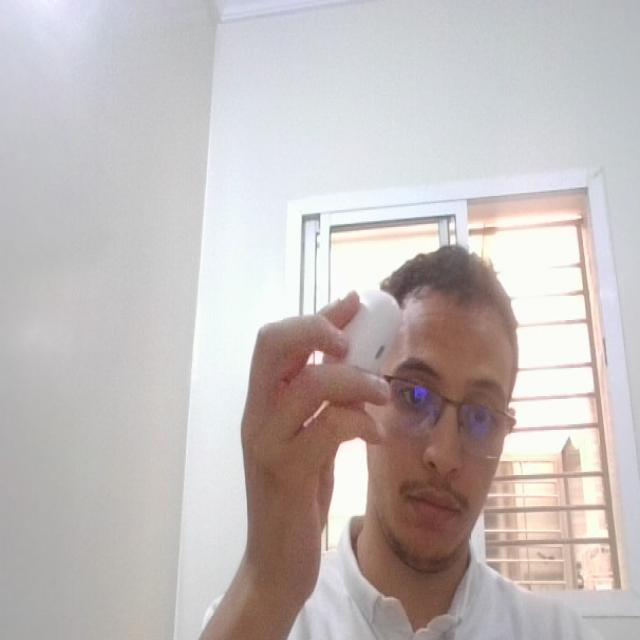airpods: (322, 279, 407, 406)
